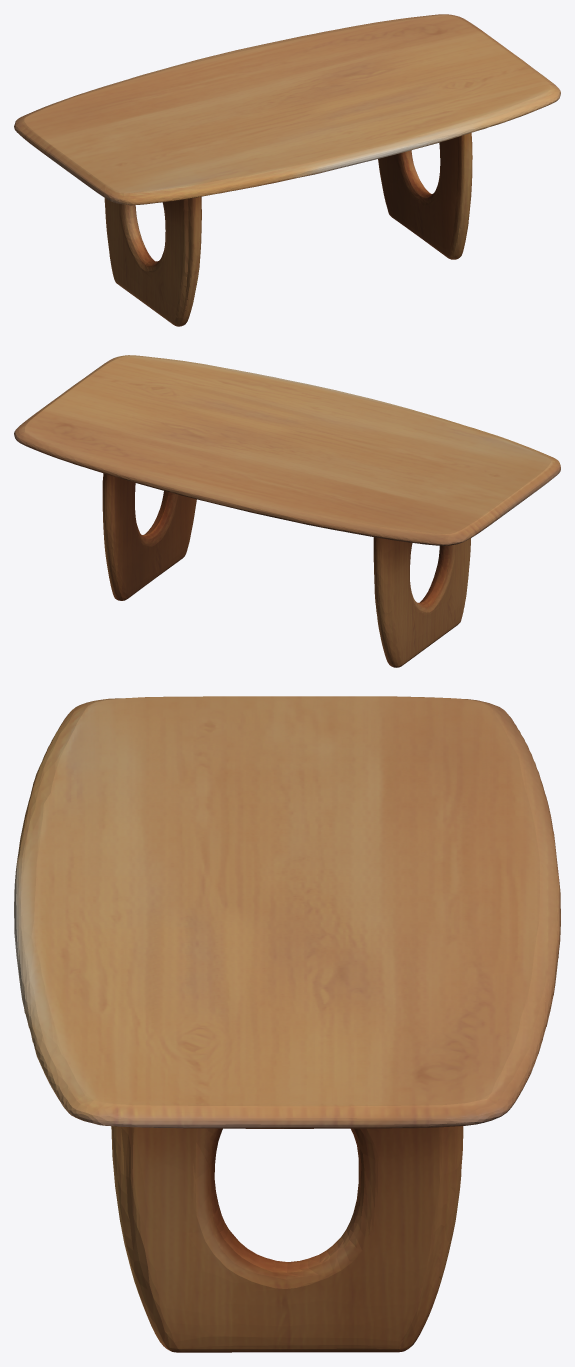
Rendered from MESA DE COMEDOR BARRIL 8P.glb.
3 renders of one model, top to bottom at view 1: azimuth 30°, elevation 25°; view 2: azimuth 150°, elevation 25°; view 3: azimuth 270°, elevation 25°, orthographic. The views are drawn at different scales.
Parts seen in each view (by area): view 1: world; view 2: world; view 3: world.
Boxes of the visible parts, x1,y1,x2,y2 form: world: (14, 14, 560, 326); world: (14, 355, 560, 667); world: (14, 696, 560, 1352).
Bounding box in the file's own units: 1 × 0.3546 × 0.5477.
1 material, 1 textured.
